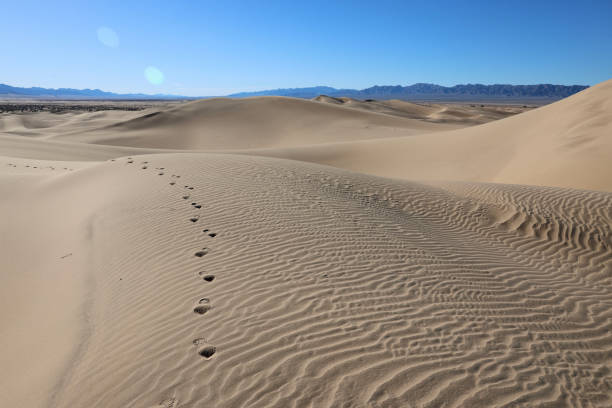human_footprint: (193, 338, 216, 358), (193, 339, 216, 358), (193, 298, 211, 313), (151, 397, 177, 407), (198, 344, 215, 358), (199, 272, 214, 281), (194, 248, 207, 256), (203, 229, 216, 237), (191, 202, 202, 209), (155, 167, 164, 175), (189, 216, 198, 222), (141, 161, 147, 168), (208, 232, 216, 237), (184, 185, 193, 189), (182, 194, 189, 199), (127, 158, 133, 163), (194, 204, 201, 208), (169, 181, 175, 185), (158, 171, 163, 175), (203, 229, 209, 232), (141, 165, 147, 168), (191, 202, 196, 205)
